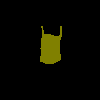canottiera: (40, 25, 62, 64)
